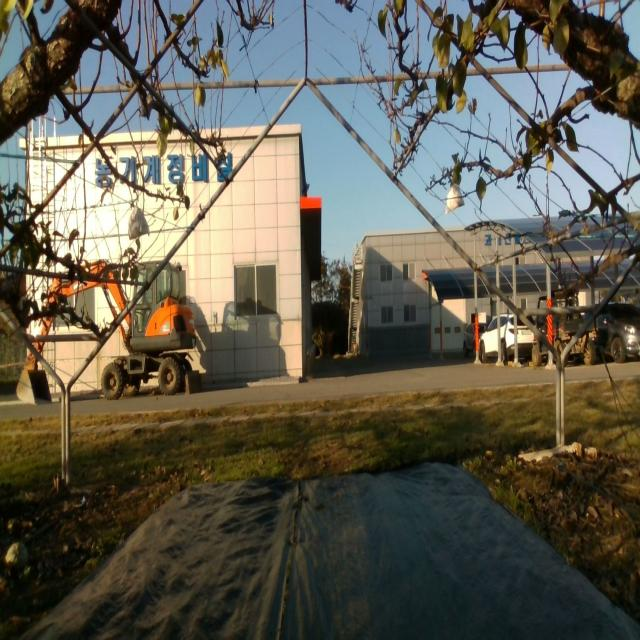pearbags: (445, 182, 465, 215), (129, 205, 148, 238)
